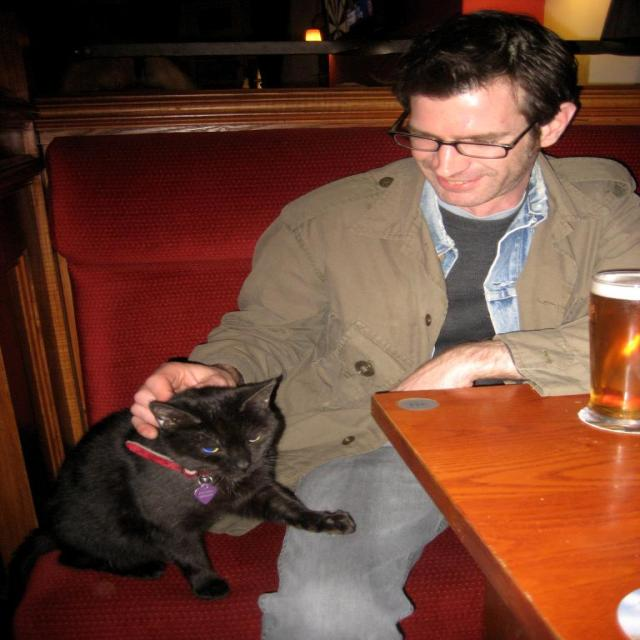Cat: (0, 370, 363, 639)
